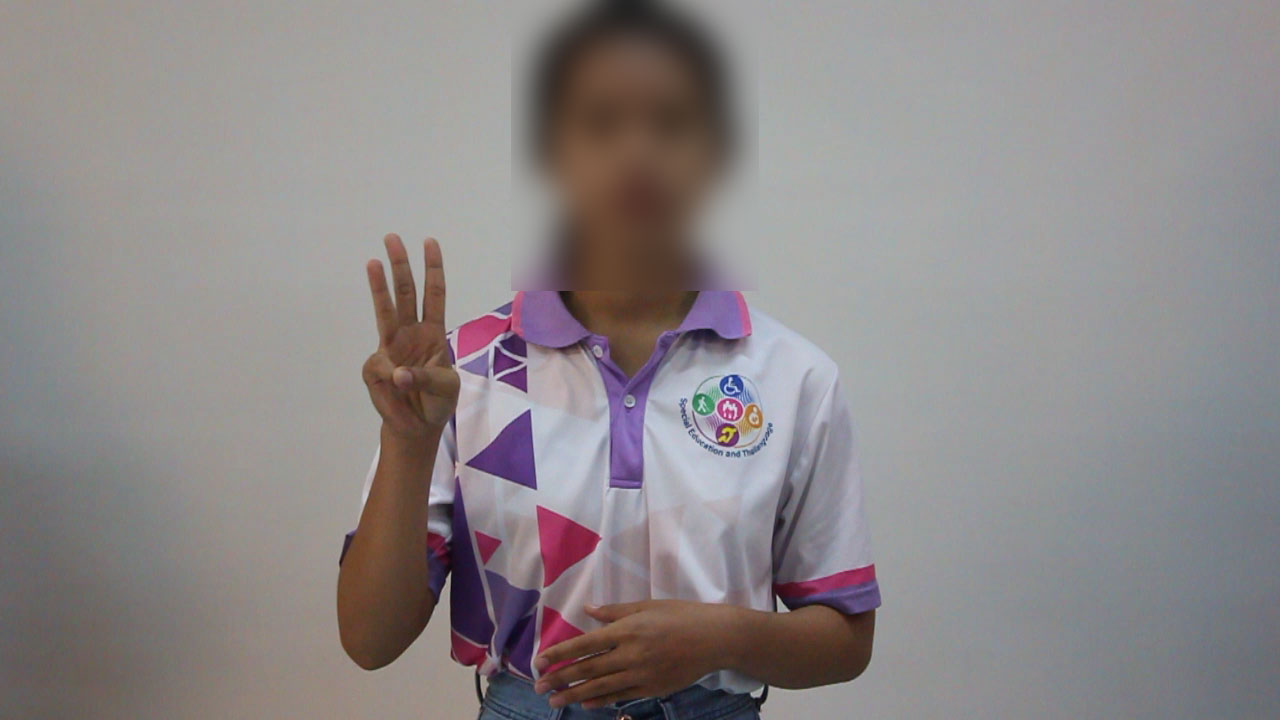wor: (353, 223, 464, 447)
